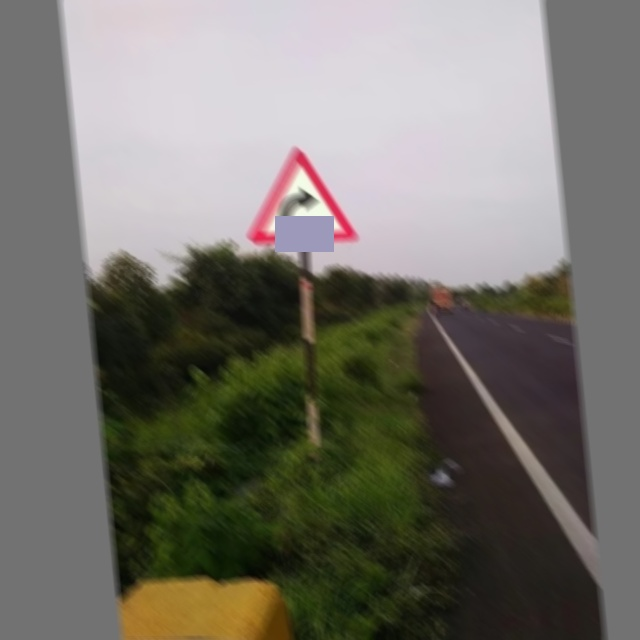Right_Hand_Curve: (238, 143, 361, 251)
